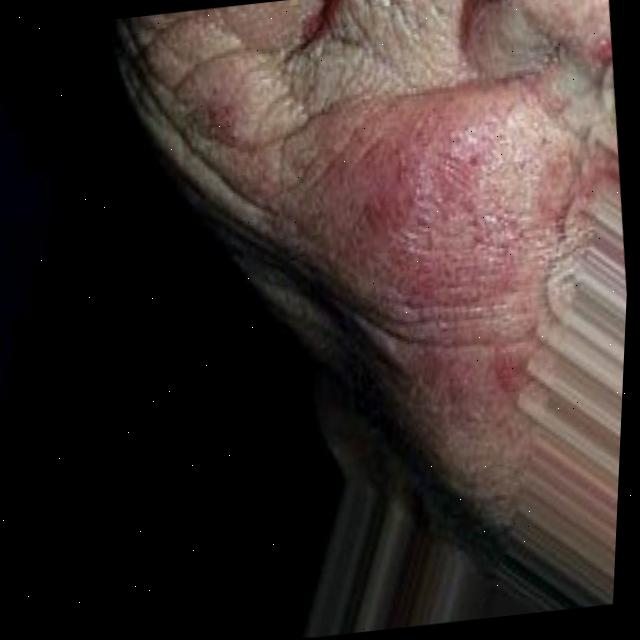Rosacea: (351, 96, 566, 307), (203, 109, 237, 143)
